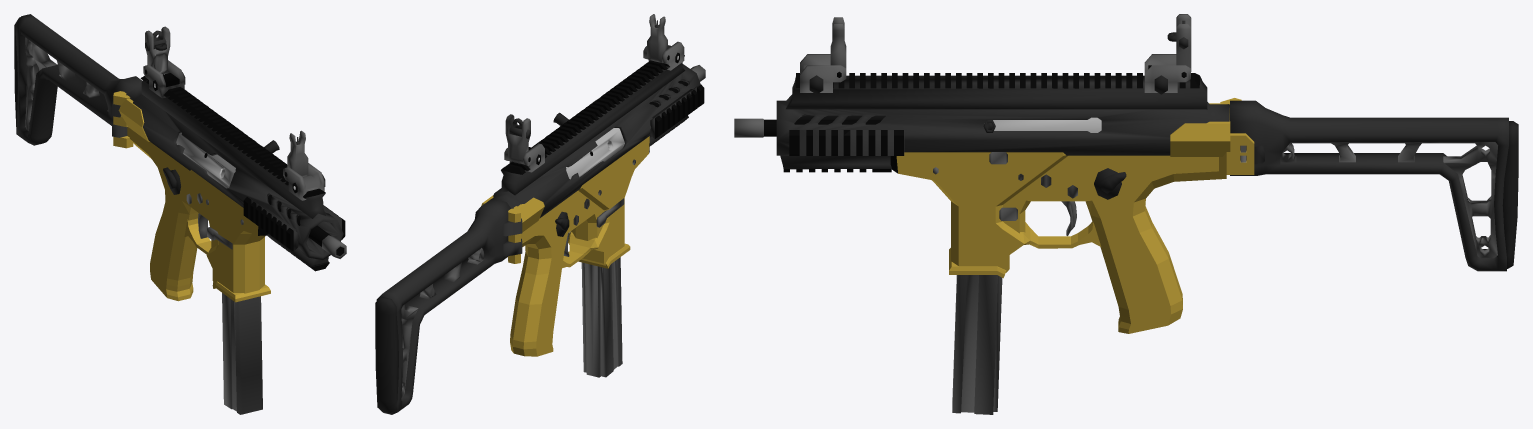
Rendered from lunatic_smg.obj.
The picture shows the model from 3 angles, left to right: view 1: azimuth 30°, elevation 25°; view 2: azimuth 150°, elevation 25°; view 3: azimuth 270°, elevation 25°; orthographic projection. The views are drawn at different scales.
Parts seen in each view (by area): view 1: Mesh_8.001, Mesh_3.001, Mesh_7.001, Mesh_2.003, Mesh_1.001, Mesh_0.001, Mesh_2.002; view 2: Mesh_3.001, Mesh_8.001, Mesh_7.001, Mesh_2.003, Mesh_0.001, Mesh_1.001; view 3: Mesh_8.001, Mesh_3.001, Mesh_7.001, Mesh_2.003, Mesh_0.001, Mesh_1.001.
Boxes of the visible parts, x1,y1,x2,y2 form: Mesh_8.001: (15,14,343,267); Mesh_3.001: (113,74,345,302); Mesh_7.001: (25,26,346,258); Mesh_2.003: (222,293,262,414); Mesh_1.001: (154,83,295,189); Mesh_0.001: (14,17,325,194); Mesh_2.002: (145,69,344,255); Mesh_3.001: (481,55,704,356); Mesh_8.001: (376,20,700,414); Mesh_7.001: (401,14,705,397); Mesh_2.003: (581,257,622,377); Mesh_0.001: (375,112,569,413); Mesh_1.001: (538,56,678,179); Mesh_8.001: (776,20,1508,271); Mesh_3.001: (783,73,1254,333); Mesh_7.001: (734,14,1497,258); Mesh_2.003: (952,275,1002,414); Mesh_0.001: (809,32,1518,268); Mesh_1.001: (993,117,1101,132).
Size of the model in its own units: 0.0763 by 0.331 by 0.6058.
